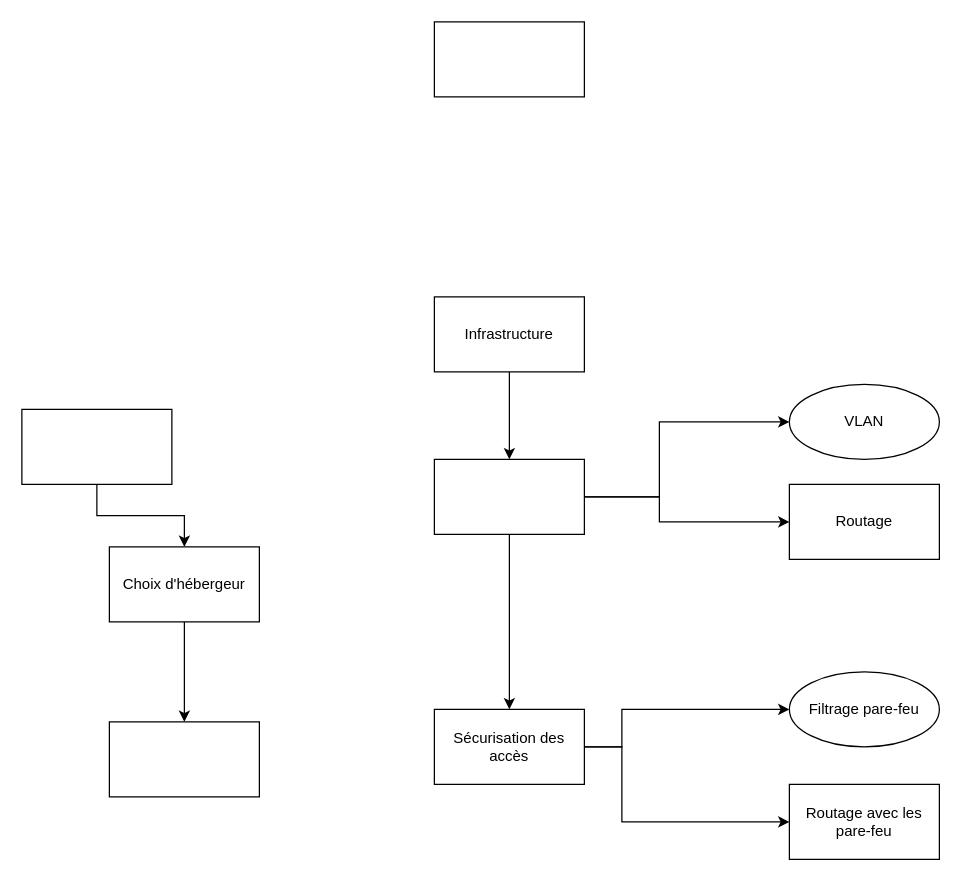
Some shapes in this 961 by 881 pixel diagram are drawn without their labels. Each missing label, with the box of its shape:
Comparaison des prix hébergements: (108, 721, 259, 797)
Hébergement serveurs: (21, 408, 172, 484)
Mise en place du switch: (433, 458, 584, 534)
Projet PROFLAN: (433, 21, 584, 97)
